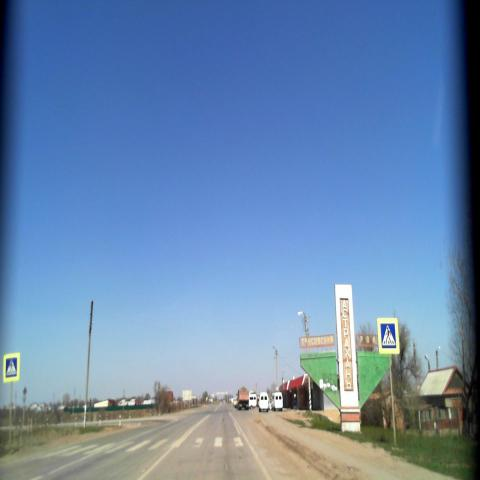5_19_1: (379, 317, 400, 354), (2, 351, 20, 381)
